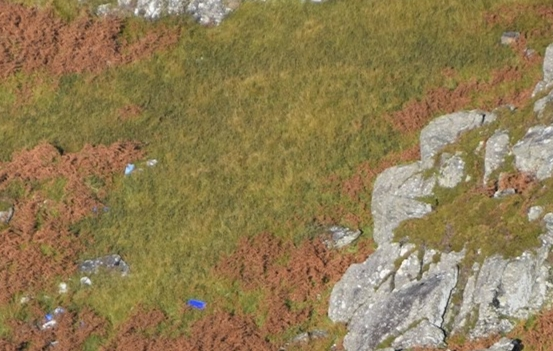scattered_barrel: (29, 157, 215, 333)
